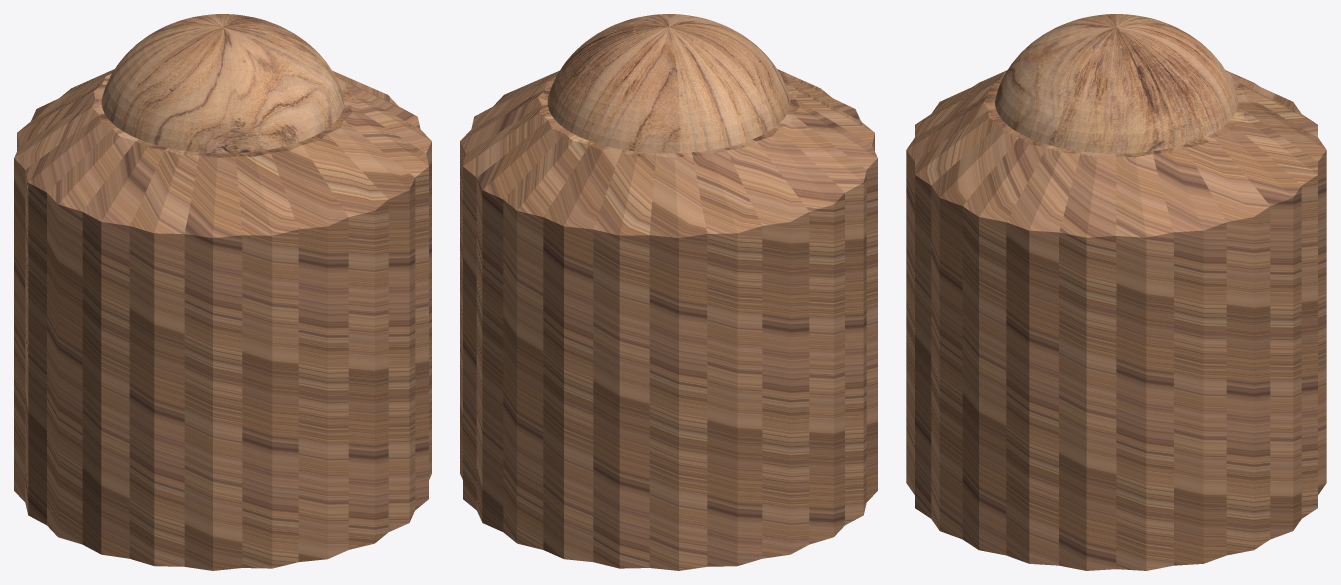
Rendered from TheKnob-v1.dae.
3 renders of one model, left to right at view 1: azimuth 30°, elevation 25°; view 2: azimuth 150°, elevation 25°; view 3: azimuth 270°, elevation 25°, orthographic.
Visible parts, largest first — view 1: Plane.001; view 2: Plane.001; view 3: Plane.001.
Part boxes in pixels (bbox=[...]): Plane.001: bbox=[14, 14, 431, 570]; Plane.001: bbox=[460, 14, 877, 570]; Plane.001: bbox=[906, 14, 1326, 570].
Size of the model in its own units: 1.98 by 2 by 2.39.
Materials: 1 (1 with a texture image).
